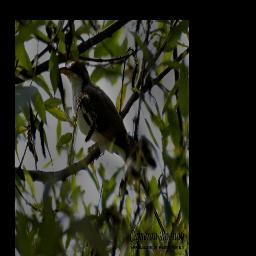Cuckoo: (58, 60, 165, 234)
